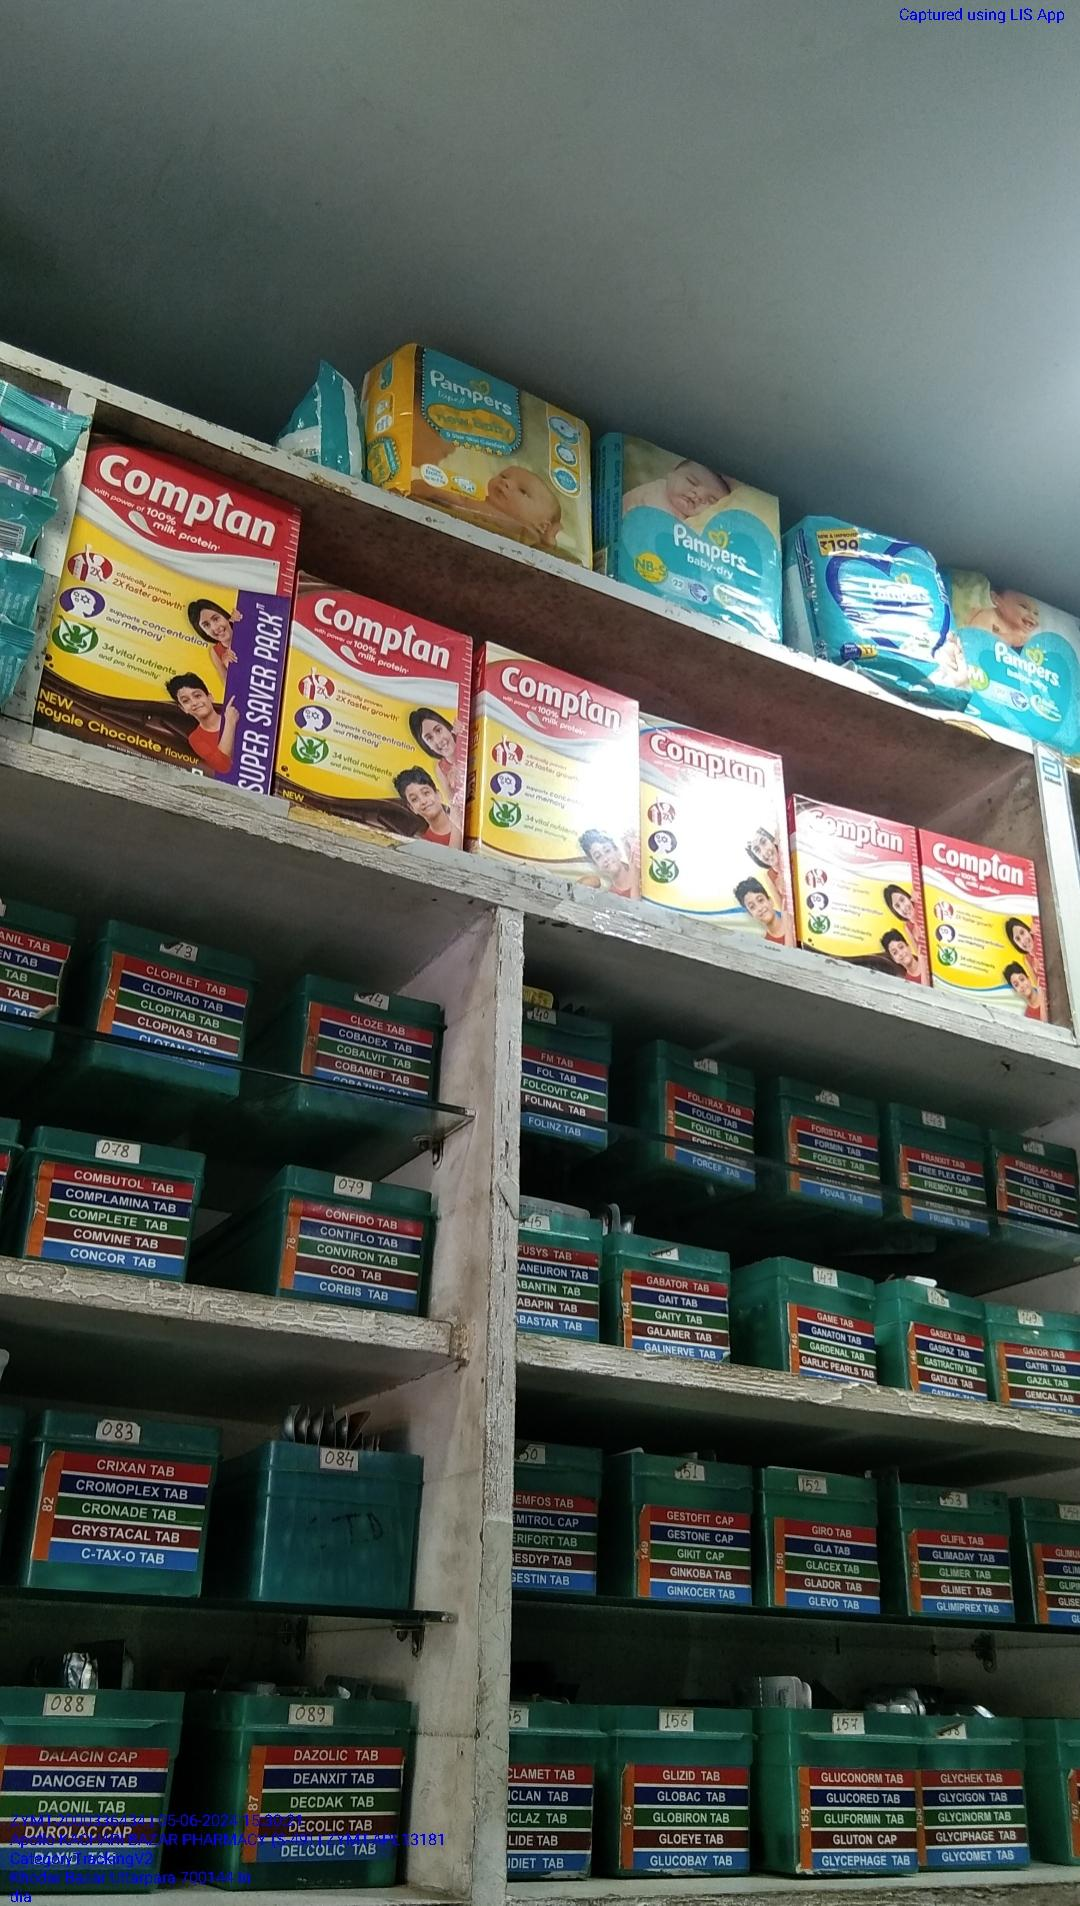COMPLAN_CREAMY_CLASSIC_500_G_PACK: (638, 708, 791, 939)
COMPLAN_KESAR_BADAM_500_GMS_PACK: (484, 643, 632, 891)
